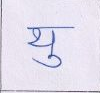u_matra: (32, 54, 64, 68)
